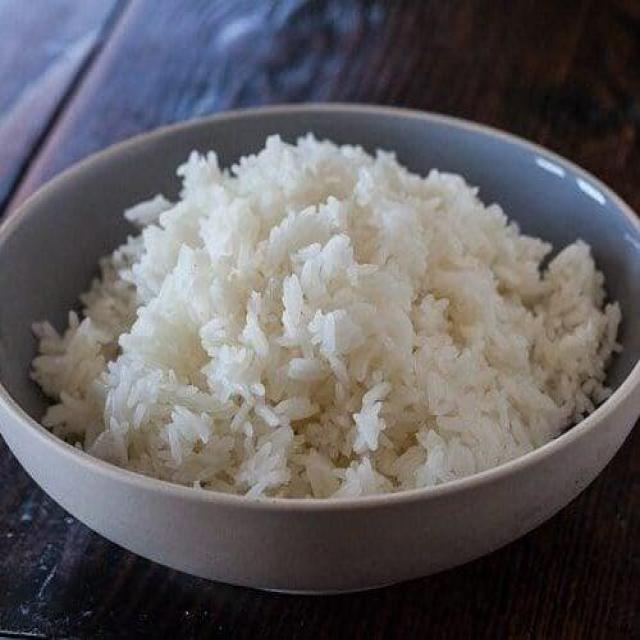rice: (31, 135, 628, 497)
